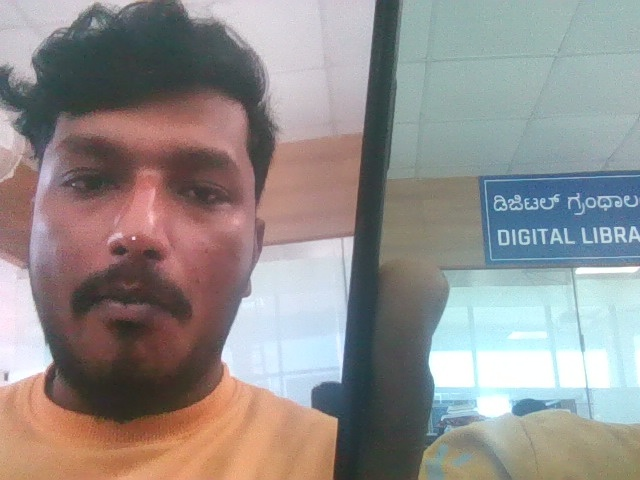fake: (0, 0, 308, 435)
